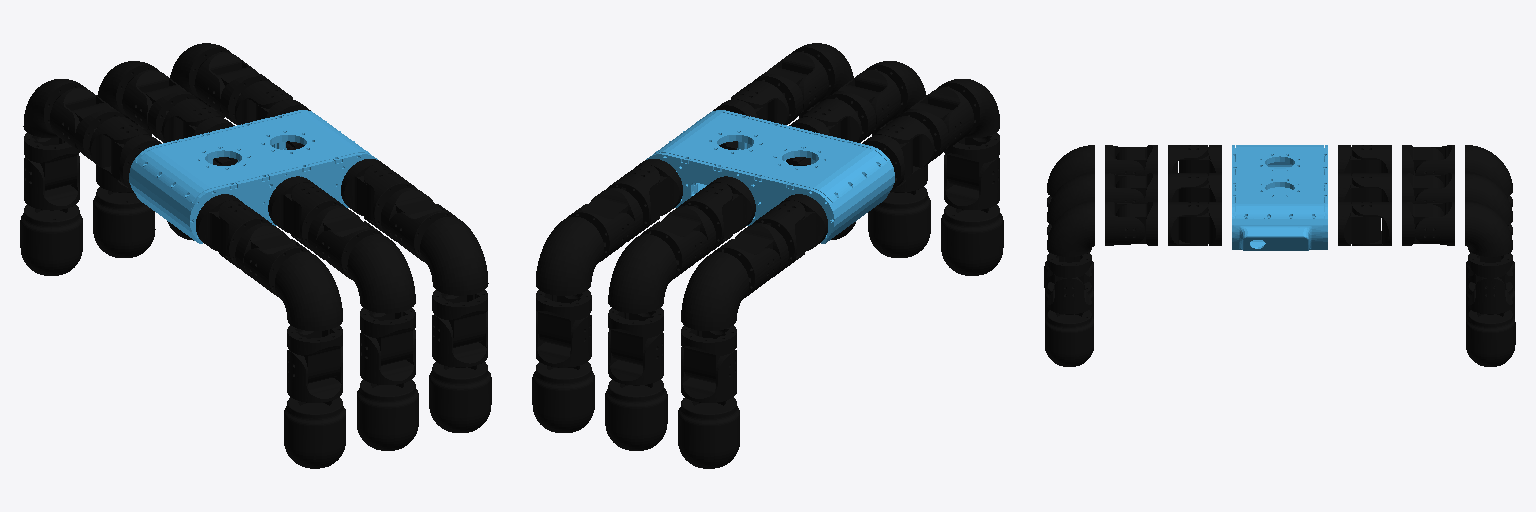
--- What the picture shows (computed from the rendered views, not written in the file) ---
The picture shows the robot from 3 angles, left to right: view 1: azimuth 30°, elevation 25°; view 2: azimuth 150°, elevation 25°; view 3: azimuth 270°, elevation 25°; orthographic projection.
Model modular_robot_compiled with 50 links and 49 joints (18 revolute, 31 fixed), rooted at base_link, posed all joints at 0.
Links seen in each view (by area): view 1: eigenbody_M0_S0, static_elbow_M20_S20, static_elbow_M19_S19, static_elbow_M21_S21, foot_input_M28_S28, foot_input_M27_S27, foot_input_M25_S25, foot_input_M26_S26, foot_input_M29_S29, bendy_input_M13_S13, bendy_input_M15_S15, bendy_input_M14_S14 (+28 smaller); view 2: eigenbody_M0_S0, static_elbow_M23_S23, static_elbow_M22_S22, static_elbow_M24_S24, foot_input_M26_S26, foot_input_M29_S29, foot_input_M30_S30, foot_input_M28_S28, foot_input_M25_S25, bendy_input_M18_S18, bendy_input_M16_S16, bendy_input_M17_S17 (+28 smaller); view 3: eigenbody_M0_S0, foot_input_M30_S30, foot_input_M27_S27, static_elbow_M24_S24, static_elbow_M21_S21, bendy_input_M6_S6, bendy_input_M3_S3, static_elbow_M20_S20, static_elbow_M23_S23, static_elbow_M19_S19, static_elbow_M22_S22, bendy_output_M18_S18 (+25 smaller).
Boxes of the visible links, <box> form: eigenbody_M0_S0: <box>129,110,377,243</box>; static_elbow_M20_S20: <box>347,234,415,313</box>; static_elbow_M19_S19: <box>275,252,342,330</box>; static_elbow_M21_S21: <box>420,217,488,295</box>; foot_input_M28_S28: <box>20,205,82,275</box>; foot_input_M27_S27: <box>429,362,491,432</box>; foot_input_M25_S25: <box>357,379,418,450</box>; foot_input_M26_S26: <box>284,397,345,468</box>; foot_input_M29_S29: <box>93,187,155,257</box>; bendy_input_M13_S13: <box>287,325,342,383</box>; bendy_input_M15_S15: <box>432,290,487,347</box>; bendy_input_M14_S14: <box>360,307,415,365</box>; eigenbody_M0_S0: <box>646,110,894,243</box>; static_elbow_M23_S23: <box>608,234,676,313</box>; static_elbow_M22_S22: <box>681,252,748,330</box>; static_elbow_M24_S24: <box>536,217,603,295</box>; foot_input_M26_S26: <box>941,204,1003,275</box>; foot_input_M29_S29: <box>605,380,667,450</box>; foot_input_M30_S30: <box>532,362,594,432</box>; foot_input_M28_S28: <box>678,397,739,468</box>; foot_input_M25_S25: <box>868,187,930,257</box>; bendy_input_M18_S18: <box>536,290,591,347</box>; bendy_input_M16_S16: <box>681,325,736,383</box>; bendy_input_M17_S17: <box>608,308,663,365</box>; eigenbody_M0_S0: <box>1232,145,1327,250</box>; foot_input_M30_S30: <box>1466,310,1515,366</box>; foot_input_M27_S27: <box>1045,310,1093,366</box>; static_elbow_M24_S24: <box>1465,202,1512,256</box>; static_elbow_M21_S21: <box>1047,202,1094,256</box>; bendy_input_M6_S6: <box>1338,202,1380,245</box>; bendy_input_M3_S3: <box>1179,202,1221,245</box>; static_elbow_M20_S20: <box>1047,173,1094,225</box>; static_elbow_M23_S23: <box>1465,173,1512,224</box>; static_elbow_M19_S19: <box>1047,145,1094,196</box>; static_elbow_M22_S22: <box>1465,145,1512,196</box>; bendy_output_M18_S18: <box>1468,262,1512,314</box>.
Bounding box of the posed robot: 0.2556 × 0.6321 × 0.2325 m (x, y, z).
Meshes: 5 distinct files referenced, 49 mesh visuals loaded (5 binary STL).

robot.urdf — modular_robot_compiled:
<?xml version="1.0" ?>
<!-- =================================================================================== -->
<!-- |    This document was autogenerated by xacro from [local-path]/catkin_ws/src/eigenbot/urdf/autoXACRO.xacro | -->
<!-- |    EDITING THIS FILE BY HAND IS NOT RECOMMENDED                                 | -->
<!-- =================================================================================== -->
<robot name="modular_robot_compiled" xmlns:xacro="http://www.ros.org/wiki/xacro">

  <link name="base_link" />



  <link name="eigenbody_M0_S0">
    <inertial>
      <mass value="2.38"/>
      <origin rpy="0 0 0" xyz="-0.045 0 -0.063"/>
      <inertia ixx=".005031284" ixy="0.000000338" ixz="0.000086805" iyy="0.003968526" iyz="0.000039596" izz="0.001646162"/>
    </inertial>
    <visual>
      <geometry>
        <mesh filename="../meshes/Eigenbody.STL" scale="1 1 1"/>
      </geometry>
    </visual>
    <collision>
      <geometry>
        <mesh filename="../meshes/Eigenbody.STL" scale="1 1 1"/>
      </geometry>
    </collision>
    <material name="black">
      <color rgba="0.1 0.1 0.1 1"/>
    </material>
  </link>
  <link name="bendy_input_M1_S1">
    <inertial>
      <origin rpy="0 0 0" xyz="-0.023 0 0"/>
      <mass value="0.13536"/>
      <inertia ixx="0.000047004" ixy="-0.000000049" ixz="0.000000017" iyy="0.000068413" iyz="0.000000009" izz="0.000070686"/>
    </inertial>
    <visual>
      <geometry>
        <mesh filename="../meshes/Bendy In.STL" scale="1 1 1"/>
      </geometry>
      <material name="black">
        <color rgba="0.1 0.1 0.1 1"/>
      </material>
    </visual>
    <collision>
      <geometry>
        <mesh filename="../meshes/Bendy In.STL" scale="1 1 1"/>
      </geometry>
    </collision>
    <material name="black">
      <color rgba="0.1 0.1 0.1 1"/>
    </material>
  </link>
  <link name="bendy_output_M1_S1">
    <inertial>
      <origin rpy="0 0 0" xyz="-0.029 0 0"/>
      <mass value=".13522"/>
      <inertia ixx="0.000021977" ixy="0.000000082" ixz="-0.000000063" iyy="0.000017473" iyz="0.000000067" izz="0.000021078"/>
    </inertial>
    <visual>
      <geometry>
        <mesh filename="../meshes/Bendy Out.STL" scale="1 1 1"/>
      </geometry>
      <material name="black">
        <color rgba="0.1 0.1 0.1 1"/>
      </material>
      <origin rpy="0 0 0" xyz="0 0 0 "/>
    </visual>
    <collision>
      <geometry>
        <mesh filename="../meshes/Bendy Out.STL" scale="1 1 1"/>
      </geometry>
      <origin rpy="0 0 0" xyz="0 0 0"/>
    </collision>
    <material name="black">
      <color rgba="0.1 0.1 0.1 1"/>
    </material>
  </link>
  <joint name="bendy_joint_M1_S1" type="revolute">
    <parent link="bendy_input_M1_S1"/>
    <child link="bendy_output_M1_S1"/>
    <origin rpy="0 0 0" xyz="-0.049 0 0"/>
    <axis xyz="0 1 0"/>
    <limit effort="8" lower="-1.57079632679" upper="1.57079632679" velocity="1"/>
  </joint>
  <link name="bendy_input_M2_S2">
    <inertial>
      <origin rpy="0 0 0" xyz="-0.023 0 0"/>
      <mass value="0.13536"/>
      <inertia ixx="0.000047004" ixy="-0.000000049" ixz="0.000000017" iyy="0.000068413" iyz="0.000000009" izz="0.000070686"/>
    </inertial>
    <visual>
      <geometry>
        <mesh filename="../meshes/Bendy In.STL" scale="1 1 1"/>
      </geometry>
      <material name="black">
        <color rgba="0.1 0.1 0.1 1"/>
      </material>
    </visual>
    <collision>
      <geometry>
        <mesh filename="../meshes/Bendy In.STL" scale="1 1 1"/>
      </geometry>
    </collision>
    <material name="black">
      <color rgba="0.1 0.1 0.1 1"/>
    </material>
  </link>
  <link name="bendy_output_M2_S2">
    <inertial>
      <origin rpy="0 0 0" xyz="-0.029 0 0"/>
      <mass value=".13522"/>
      <inertia ixx="0.000021977" ixy="0.000000082" ixz="-0.000000063" iyy="0.000017473" iyz="0.000000067" izz="0.000021078"/>
    </inertial>
    <visual>
      <geometry>
        <mesh filename="../meshes/Bendy Out.STL" scale="1 1 1"/>
      </geometry>
      <material name="black">
        <color rgba="0.1 0.1 0.1 1"/>
      </material>
      <origin rpy="0 0 0" xyz="0 0 0 "/>
    </visual>
    <collision>
      <geometry>
        <mesh filename="../meshes/Bendy Out.STL" scale="1 1 1"/>
      </geometry>
      <origin rpy="0 0 0" xyz="0 0 0"/>
    </collision>
    <material name="black">
      <color rgba="0.1 0.1 0.1 1"/>
    </material>
  </link>
  <joint name="bendy_joint_M2_S2" type="revolute">
    <parent link="bendy_input_M2_S2"/>
    <child link="bendy_output_M2_S2"/>
    <origin rpy="0 0 0" xyz="-0.049 0 0"/>
    <axis xyz="0 1 0"/>
    <limit effort="8" lower="-1.57079632679" upper="1.57079632679" velocity="1"/>
  </joint>
  <link name="bendy_input_M3_S3">
    <inertial>
      <origin rpy="0 0 0" xyz="-0.023 0 0"/>
      <mass value="0.13536"/>
      <inertia ixx="0.000047004" ixy="-0.000000049" ixz="0.000000017" iyy="0.000068413" iyz="0.000000009" izz="0.000070686"/>
    </inertial>
    <visual>
      <geometry>
        <mesh filename="../meshes/Bendy In.STL" scale="1 1 1"/>
      </geometry>
      <material name="black">
        <color rgba="0.1 0.1 0.1 1"/>
      </material>
    </visual>
    <collision>
      <geometry>
        <mesh filename="../meshes/Bendy In.STL" scale="1 1 1"/>
      </geometry>
    </collision>
    <material name="black">
      <color rgba="0.1 0.1 0.1 1"/>
    </material>
  </link>
  <link name="bendy_output_M3_S3">
    <inertial>
      <origin rpy="0 0 0" xyz="-0.029 0 0"/>
      <mass value=".13522"/>
      <inertia ixx="0.000021977" ixy="0.000000082" ixz="-0.000000063" iyy="0.000017473" iyz="0.000000067" izz="0.000021078"/>
    </inertial>
    <visual>
      <geometry>
        <mesh filename="../meshes/Bendy Out.STL" scale="1 1 1"/>
      </geometry>
      <material name="black">
        <color rgba="0.1 0.1 0.1 1"/>
      </material>
      <origin rpy="0 0 0" xyz="0 0 0 "/>
    </visual>
    <collision>
      <geometry>
        <mesh filename="../meshes/Bendy Out.STL" scale="1 1 1"/>
      </geometry>
      <origin rpy="0 0 0" xyz="0 0 0"/>
    </collision>
    <material name="black">
      <color rgba="0.1 0.1 0.1 1"/>
    </material>
  </link>
  <joint name="bendy_joint_M3_S3" type="revolute">
    <parent link="bendy_input_M3_S3"/>
    <child link="bendy_output_M3_S3"/>
    <origin rpy="0 0 0" xyz="-0.049 0 0"/>
    <axis xyz="0 1 0"/>
    <limit effort="8" lower="-1.57079632679" upper="1.57079632679" velocity="1"/>
  </joint>
  <link name="bendy_input_M4_S4">
    <inertial>
      <origin rpy="0 0 0" xyz="-0.023 0 0"/>
      <mass value="0.13536"/>
      <inertia ixx="0.000047004" ixy="-0.000000049" ixz="0.000000017" iyy="0.000068413" iyz="0.000000009" izz="0.000070686"/>
    </inertial>
    <visual>
      <geometry>
        <mesh filename="../meshes/Bendy In.STL" scale="1 1 1"/>
      </geometry>
      <material name="black">
        <color rgba="0.1 0.1 0.1 1"/>
      </material>
    </visual>
    <collision>
      <geometry>
        <mesh filename="../meshes/Bendy In.STL" scale="1 1 1"/>
      </geometry>
    </collision>
    <material name="black">
      <color rgba="0.1 0.1 0.1 1"/>
    </material>
  </link>
  <link name="bendy_output_M4_S4">
    <inertial>
      <origin rpy="0 0 0" xyz="-0.029 0 0"/>
      <mass value=".13522"/>
      <inertia ixx="0.000021977" ixy="0.000000082" ixz="-0.000000063" iyy="0.000017473" iyz="0.000000067" izz="0.000021078"/>
    </inertial>
    <visual>
      <geometry>
        <mesh filename="../meshes/Bendy Out.STL" scale="1 1 1"/>
      </geometry>
      <material name="black">
        <color rgba="0.1 0.1 0.1 1"/>
      </material>
      <origin rpy="0 0 0" xyz="0 0 0 "/>
    </visual>
    <collision>
      <geometry>
        <mesh filename="../meshes/Bendy Out.STL" scale="1 1 1"/>
      </geometry>
      <origin rpy="0 0 0" xyz="0 0 0"/>
    </collision>
    <material name="black">
      <color rgba="0.1 0.1 0.1 1"/>
    </material>
  </link>
  <joint name="bendy_joint_M4_S4" type="revolute">
    <parent link="bendy_input_M4_S4"/>
    <child link="bendy_output_M4_S4"/>
    <origin rpy="0 0 0" xyz="-0.049 0 0"/>
    <axis xyz="0 1 0"/>
    <limit effort="8" lower="-1.57079632679" upper="1.57079632679" velocity="1"/>
  </joint>
  <link name="bendy_input_M5_S5">
    <inertial>
      <origin rpy="0 0 0" xyz="-0.023 0 0"/>
      <mass value="0.13536"/>
      <inertia ixx="0.000047004" ixy="-0.000000049" ixz="0.000000017" iyy="0.000068413" iyz="0.000000009" izz="0.000070686"/>
    </inertial>
    <visual>
      <geometry>
        <mesh filename="../meshes/Bendy In.STL" scale="1 1 1"/>
      </geometry>
      <material name="black">
        <color rgba="0.1 0.1 0.1 1"/>
      </material>
    </visual>
    <collision>
      <geometry>
        <mesh filename="../meshes/Bendy In.STL" scale="1 1 1"/>
      </geometry>
    </collision>
    <material name="black">
      <color rgba="0.1 0.1 0.1 1"/>
    </material>
  </link>
  <link name="bendy_output_M5_S5">
    <inertial>
      <origin rpy="0 0 0" xyz="-0.029 0 0"/>
      <mass value=".13522"/>
      <inertia ixx="0.000021977" ixy="0.000000082" ixz="-0.000000063" iyy="0.000017473" iyz="0.000000067" izz="0.000021078"/>
    </inertial>
    <visual>
      <geometry>
        <mesh filename="../meshes/Bendy Out.STL" scale="1 1 1"/>
      </geometry>
      <material name="black">
        <color rgba="0.1 0.1 0.1 1"/>
      </material>
      <origin rpy="0 0 0" xyz="0 0 0 "/>
    </visual>
    <collision>
      <geometry>
        <mesh filename="../meshes/Bendy Out.STL" scale="1 1 1"/>
      </geometry>
      <origin rpy="0 0 0" xyz="0 0 0"/>
    </collision>
    <material name="black">
      <color rgba="0.1 0.1 0.1 1"/>
    </material>
  </link>
  <joint name="bendy_joint_M5_S5" type="revolute">
    <parent link="bendy_input_M5_S5"/>
    <child link="bendy_output_M5_S5"/>
    <origin rpy="0 0 0" xyz="-0.049 0 0"/>
    <axis xyz="0 1 0"/>
    <limit effort="8" lower="-1.57079632679" upper="1.57079632679" velocity="1"/>
  </joint>
  <link name="bendy_input_M6_S6">
    <inertial>
      <origin rpy="0 0 0" xyz="-0.023 0 0"/>
      <mass value="0.13536"/>
      <inertia ixx="0.000047004" ixy="-0.000000049" ixz="0.000000017" iyy="0.000068413" iyz="0.000000009" izz="0.000070686"/>
    </inertial>
    <visual>
      <geometry>
        <mesh filename="../meshes/Bendy In.STL" scale="1 1 1"/>
      </geometry>
      <material name="black">
        <color rgba="0.1 0.1 0.1 1"/>
      </material>
    </visual>
    <collision>
      <geometry>
        <mesh filename="../meshes/Bendy In.STL" scale="1 1 1"/>
      </geometry>
    </collision>
    <material name="black">
      <color rgba="0.1 0.1 0.1 1"/>
    </material>
  </link>
  <link name="bendy_output_M6_S6">
    <inertial>
      <origin rpy="0 0 0" xyz="-0.029 0 0"/>
      <mass value=".13522"/>
      <inertia ixx="0.000021977" ixy="0.000000082" ixz="-0.000000063" iyy="0.000017473" iyz="0.000000067" izz="0.000021078"/>
    </inertial>
    <visual>
      <geometry>
        <mesh filename="../meshes/Bendy Out.STL" scale="1 1 1"/>
      </geometry>
      <material name="black">
        <color rgba="0.1 0.1 0.1 1"/>
      </material>
      <origin rpy="0 0 0" xyz="0 0 0 "/>
    </visual>
    <collision>
      <geometry>
        <mesh filename="../meshes/Bendy Out.STL" scale="1 1 1"/>
      </geometry>
      <origin rpy="0 0 0" xyz="0 0 0"/>
    </collision>
    <material name="black">
      <color rgba="0.1 0.1 0.1 1"/>
    </material>
  </link>
  <joint name="bendy_joint_M6_S6" type="revolute">
    <parent link="bendy_input_M6_S6"/>
    <child link="bendy_output_M6_S6"/>
    <origin rpy="0 0 0" xyz="-0.049 0 0"/>
    <axis xyz="0 1 0"/>
    <limit effort="8" lower="-1.57079632679" upper="1.57079632679" velocity="1"/>
  </joint>
  <link name="bendy_input_M7_S7">
    <inertial>
      <origin rpy="0 0 0" xyz="-0.023 0 0"/>
      <mass value="0.13536"/>
      <inertia ixx="0.000047004" ixy="-0.000000049" ixz="0.000000017" iyy="0.000068413" iyz="0.000000009" izz="0.000070686"/>
    </inertial>
    <visual>
      <geometry>
        <mesh filename="../meshes/Bendy In.STL" scale="1 1 1"/>
      </geometry>
      <material name="black">
        <color rgba="0.1 0.1 0.1 1"/>
      </material>
    </visual>
    <collision>
      <geometry>
        <mesh filename="../meshes/Bendy In.STL" scale="1 1 1"/>
      </geometry>
    </collision>
    <material name="black">
      <color rgba="0.1 0.1 0.1 1"/>
    </material>
  </link>
  <link name="bendy_output_M7_S7">
    <inertial>
      <origin rpy="0 0 0" xyz="-0.029 0 0"/>
      <mass value=".13522"/>
      <inertia ixx="0.000021977" ixy="0.000000082" ixz="-0.000000063" iyy="0.000017473" iyz="0.000000067" izz="0.000021078"/>
    </inertial>
    <visual>
      <geometry>
        <mesh filename="../meshes/Bendy Out.STL" scale="1 1 1"/>
      </geometry>
      <material name="black">
        <color rgba="0.1 0.1 0.1 1"/>
      </material>
      <origin rpy="0 0 0" xyz="0 0 0 "/>
    </visual>
    <collision>
      <geometry>
        <mesh filename="../meshes/Bendy Out.STL" scale="1 1 1"/>
      </geometry>
      <origin rpy="0 0 0" xyz="0 0 0"/>
    </collision>
    <material name="black">
      <color rgba="0.1 0.1 0.1 1"/>
    </material>
  </link>
  <joint name="bendy_joint_M7_S7" type="revolute">
    <parent link="bendy_input_M7_S7"/>
    <child link="bendy_output_M7_S7"/>
    <origin rpy="0 0 0" xyz="-0.049 0 0"/>
    <axis xyz="0 1 0"/>
    <limit effort="8" lower="0" upper="1.57079632679" velocity="1"/>
  </joint>
  <link name="bendy_input_M8_S8">
    <inertial>
      <origin rpy="0 0 0" xyz="-0.023 0 0"/>
      <mass value="0.13536"/>
      <inertia ixx="0.000047004" ixy="-0.000000049" ixz="0.000000017" iyy="0.000068413" iyz="0.000000009" izz="0.000070686"/>
    </inertial>
    <visual>
      <geometry>
        <mesh filename="../meshes/Bendy In.STL" scale="1 1 1"/>
      </geometry>
      <material name="black">
        <color rgba="0.1 0.1 0.1 1"/>
      </material>
    </visual>
    <collision>
      <geometry>
        <mesh filename="../meshes/Bendy In.STL" scale="1 1 1"/>
      </geometry>
    </collision>
    <material name="black">
      <color rgba="0.1 0.1 0.1 1"/>
    </material>
  </link>
  <link name="bendy_output_M8_S8">
    <inertial>
      <origin rpy="0 0 0" xyz="-0.029 0 0"/>
      <mass value=".13522"/>
      <inertia ixx="0.000021977" ixy="0.000000082" ixz="-0.000000063" iyy="0.000017473" iyz="0.000000067" izz="0.000021078"/>
    </inertial>
    <visual>
      <geometry>
        <mesh filename="../meshes/Bendy Out.STL" scale="1 1 1"/>
      </geometry>
      <material name="black">
        <color rgba="0.1 0.1 0.1 1"/>
      </material>
      <origin rpy="0 0 0" xyz="0 0 0 "/>
    </visual>
    <collision>
      <geometry>
        <mesh filename="../meshes/Bendy Out.STL" scale="1 1 1"/>
      </geometry>
      <origin rpy="0 0 0" xyz="0 0 0"/>
    </collision>
    <material name="black">
      <color rgba="0.1 0.1 0.1 1"/>
    </material>
  </link>
  <joint name="bendy_joint_M8_S8" type="revolute">
    <parent link="bendy_input_M8_S8"/>
    <child link="bendy_output_M8_S8"/>
    <origin rpy="0 0 0" xyz="-0.049 0 0"/>
    <axis xyz="0 1 0"/>
    <limit effort="8" lower="0" upper="1.57079632679" velocity="1"/>
  </joint>
  <link name="bendy_input_M9_S9">
    <inertial>
      <origin rpy="0 0 0" xyz="-0.023 0 0"/>
      <mass value="0.13536"/>
      <inertia ixx="0.000047004" ixy="-0.000000049" ixz="0.000000017" iyy="0.000068413" iyz="0.000000009" izz="0.000070686"/>
    </inertial>
    <visual>
      <geometry>
        <mesh filename="../meshes/Bendy In.STL" scale="1 1 1"/>
      </geometry>
      <material name="black">
        <color rgba="0.1 0.1 0.1 1"/>
      </material>
    </visual>
    <collision>
      <geometry>
        <mesh filename="../meshes/Bendy In.STL" scale="1 1 1"/>
      </geometry>
    </collision>
    <material name="black">
      <color rgba="0.1 0.1 0.1 1"/>
    </material>
  </link>
  <link name="bendy_output_M9_S9">
    <inertial>
      <origin rpy="0 0 0" xyz="-0.029 0 0"/>
      <mass value=".13522"/>
      <inertia ixx="0.000021977" ixy="0.000000082" ixz="-0.000000063" iyy="0.000017473" iyz="0.000000067" izz="0.000021078"/>
    </inertial>
    <visual>
      <geometry>
        <mesh filename="../meshes/Bendy Out.STL" scale="1 1 1"/>
      </geometry>
      <material name="black">
        <color rgba="0.1 0.1 0.1 1"/>
      </material>
      <origin rpy="0 0 0" xyz="0 0 0 "/>
    </visual>
    <collision>
      <geometry>
        <mesh filename="../meshes/Bendy Out.STL" scale="1 1 1"/>
      </geometry>
      <origin rpy="0 0 0" xyz="0 0 0"/>
    </collision>
    <material name="black">
      <color rgba="0.1 0.1 0.1 1"/>
    </material>
  </link>
  <joint name="bendy_joint_M9_S9" type="revolute">
    <parent link="bendy_input_M9_S9"/>
    <child link="bendy_output_M9_S9"/>
    <origin rpy="0 0 0" xyz="-0.049 0 0"/>
    <axis xyz="0 1 0"/>
    <limit effort="8" lower="0" upper="1.57079632679" velocity="1"/>
  </joint>
  <link name="bendy_input_M10_S10">
    <inertial>
      <origin rpy="0 0 0" xyz="-0.023 0 0"/>
      <mass value="0.13536"/>
      <inertia ixx="0.000047004" ixy="-0.000000049" ixz="0.000000017" iyy="0.000068413" iyz="0.000000009" izz="0.000070686"/>
    </inertial>
    <visual>
      <geometry>
        <mesh filename="../meshes/Bendy In.STL" scale="1 1 1"/>
      </geometry>
      <material name="black">
        <color rgba="0.1 0.1 0.1 1"/>
      </material>
    </visual>
    <collision>
      <geometry>
        <mesh filename="../meshes/Bendy In.STL" scale="1 1 1"/>
      </geometry>
    </collision>
    <material name="black">
      <color rgba="0.1 0.1 0.1 1"/>
    </material>
  </link>
  <link name="bendy_output_M10_S10">
    <inertial>
      <origin rpy="0 0 0" xyz="-0.029 0 0"/>
      <mass value=".13522"/>
      <inertia ixx="0.000021977" ixy="0.000000082" ixz="-0.000000063" iyy="0.000017473" iyz="0.000000067" izz="0.000021078"/>
    </inertial>
    <visual>
      <geometry>
        <mesh filename="../meshes/Bendy Out.STL" scale="1 1 1"/>
      </geometry>
      <material name="black">
        <color rgba="0.1 0.1 0.1 1"/>
      </material>
      <origin rpy="0 0 0" xyz="0 0 0 "/>
    </visual>
    <collision>
      <geometry>
        <mesh filename="../meshes/Bendy Out.STL" scale="1 1 1"/>
      </geometry>
      <origin rpy="0 0 0" xyz="0 0 0"/>
    </collision>
    <material name="black">
      <color rgba="0.1 0.1 0.1 1"/>
    </material>
  </link>
  <joint name="bendy_joint_M10_S10" type="revolute">
    <parent link="bendy_input_M10_S10"/>
    <child link="bendy_output_M10_S10"/>
    <origin rpy="0 0 0" xyz="-0.049 0 0"/>
    <axis xyz="0 1 0"/>
    <limit effort="8" lower="0" upper="1.57079632679" velocity="1"/>
  </joint>
  <link name="bendy_input_M11_S11">
    <inertial>
      <origin rpy="0 0 0" xyz="-0.023 0 0"/>
      <mass value="0.13536"/>
      <inertia ixx="0.000047004" ixy="-0.000000049" ixz="0.000000017" iyy="0.000068413" iyz="0.000000009" izz="0.000070686"/>
    </inertial>
    <visual>
      <geometry>
        <mesh filename="../meshes/Bendy In.STL" scale="1 1 1"/>
      </geometry>
      <material name="black">
        <color rgba="0.1 0.1 0.1 1"/>
      </material>
    </visual>
    <collision>
      <geometry>
        <mesh filename="../meshes/Bendy In.STL" scale="1 1 1"/>
      </geometry>
    </collision>
    <material name="black">
      <color rgba="0.1 0.1 0.1 1"/>
    </material>
  </link>
  <link name="bendy_output_M11_S11">
    <inertial>
      <origin rpy="0 0 0" xyz="-0.029 0 0"/>
      <mass value=".13522"/>
      <inertia ixx="0.000021977" ixy="0.000000082" ixz="-0.000000063" iyy="0.000017473" iyz="0.000000067" izz="0.000021078"/>
    </inertial>
    <visual>
      <geometry>
        <mesh filename="../meshes/Bendy Out.STL" scale="1 1 1"/>
      </geometry>
      <material name="black">
        <color rgba="0.1 0.1 0.1 1"/>
      </material>
      <origin rpy="0 0 0" xyz="0 0 0 "/>
    </visual>
    <collision>
      <geometry>
        <mesh filename="../meshes/Bendy Out.STL" scale="1 1 1"/>
      </geometry>
      <origin rpy="0 0 0" xyz="0 0 0"/>
    </collision>
    <material name="black">
      <color rgba="0.1 0.1 0.1 1"/>
    </material>
  </link>
  <joint name="bendy_joint_M11_S11" type="revolute">
    <parent link="bendy_input_M11_S11"/>
    <child link="bendy_output_M11_S11"/>
    <origin rpy="0 0 0" xyz="-0.049 0 0"/>
    <axis xyz="0 1 0"/>
    <limit effort="8" lower="0" upper="1.57079632679" velocity="1"/>
  </joint>
  <link name="bendy_input_M12_S12">
    <inertial>
      <origin rpy="0 0 0" xyz="-0.023 0 0"/>
      <mass value="0.13536"/>
      <inertia ixx="0.000047004" ixy="-0.000000049" ixz="0.000000017" iyy="0.000068413" iyz="0.000000009" izz="0.000070686"/>
    </inertial>
    <visual>
      <geometry>
        <mesh filename="../meshes/Bendy In.STL" scale="1 1 1"/>
      </geometry>
      <material name="black">
        <color rgba="0.1 0.1 0.1 1"/>
      </material>
    </visual>
    <collision>
      <geometry>
        <mesh filename="../meshes/Bendy In.STL" scale="1 1 1"/>
      </geometry>
    </collision>
    <material name="black">
      <color rgba="0.1 0.1 0.1 1"/>
    </material>
  </link>
  <link name="bendy_output_M12_S12">
    <inertial>
      <origin rpy="0 0 0" xyz="-0.029 0 0"/>
      <mass value=".13522"/>
      <inertia ixx="0.000021977" ixy="0.000000082" ixz="-0.000000063" iyy="0.000017473" iyz="0.000000067" izz="0.000021078"/>
    </inertial>
    <visual>
      <geometry>
        <mesh filename="../meshes/Bendy Out.STL" scale="1 1 1"/>
      </geometry>
      <material name="black">
        <color rgba="0.1 0.1 0.1 1"/>
      </material>
      <origin rpy="0 0 0" xyz="0 0 0 "/>
    </visual>
    <collision>
      <geometry>
        <mesh filename="../meshes/Bendy Out.STL" scale="1 1 1"/>
      </geometry>
      <origin rpy="0 0 0" xyz="0 0 0"/>
    </collision>
    <material name="black">
      <color rgba="0.1 0.1 0.1 1"/>
    </material>
  </link>
  <joint name="bendy_joint_M12_S12" type="revolute">
    <parent link="bendy_input_M12_S12"/>
    <child link="bendy_output_M12_S12"/>
    <origin rpy="0 0 0" xyz="-0.049 0 0"/>
    <axis xyz="0 1 0"/>
    <limit effort="8" lower="0" upper="1.57079632679" velocity="1"/>
  </joint>
  <link name="bendy_input_M13_S13">
    <inertial>
      <origin rpy="0 0 0" xyz="-0.023 0 0"/>
      <mass value="0.13536"/>
      <inertia ixx="0.000047004" ixy="-0.000000049" ixz="0.000000017" iyy="0.000068413" iyz="0.000000009" izz="0.000070686"/>
    </inertial>
    <visual>
      <geometry>
        <mesh filename="../meshes/Bendy In.STL" scale="1 1 1"/>
      </geometry>
      <material name="black">
        <color rgba="0.1 0.1 0.1 1"/>
      </material>
    </visual>
    <collision>
      <geometry>
        <mesh filename="../meshes/Bendy In.STL" scale="1 1 1"/>
      </geometry>
    </collision>
    <material name="black">
      <color rgba="0.1 0.1 0.1 1"/>
    </material>
  </link>
  <link name="bendy_output_M13_S13">
    <inertial>
      <origin rpy="0 0 0" xyz="-0.029 0 0"/>
      <mass value=".13522"/>
      <inertia ixx="0.000021977" ixy="0.000000082" ixz="-0.000000063" iyy="0.000017473" iyz="0.000000067" izz="0.000021078"/>
    </inertial>
    <visual>
      <geometry>
        <mesh filename="../meshes/Bendy Out.STL" scale="1 1 1"/>
      </geometry>
      <material name="black">
        <color rgba="0.1 0.1 0.1 1"/>
      </material>
      <origin rpy="0 0 0" xyz="0 0 0 "/>
    </visual>
    <collision>
      <geometry>
        <mesh filename="../meshes/Bendy Out.STL" scale="1 1 1"/>
      </geometry>
      <origin rpy="0 0 0" xyz="0 0 0"/>
    </collision>
    <material name="black">
      <color rgba="0.1 0.1 0.1 1"/>
    </material>
  </link>
  <joint name="bendy_joint_M13_S13" type="revolute">
    <parent link="bendy_input_M13_S13"/>
    <child link="bendy_output_M13_S13"/>
    <origin rpy="0 0 0" xyz="-0.049 0 0"/>
    <axis xyz="0 1 0"/>
    <limit effort="8" lower="-1.57079632679" upper="1.57079632679" velocity="1"/>
  </joint>
  <link name="bendy_input_M14_S14">
    <inertial>
      <origin rpy="0 0 0" xyz="-0.023 0 0"/>
      <mass value="0.13536"/>
      <inertia ixx="0.000047004" ixy="-0.000000049" ixz="0.000000017" iyy="0.000068413" iyz="0.000000009" izz="0.000070686"/>
    </inertial>
    <visual>
      <geometry>
        <mesh filename="../meshes/Bendy In.STL" scale="1 1 1"/>
      </geometry>
      <material name="black">
        <color rgba="0.1 0.1 0.1 1"/>
      </material>
    </visual>
    <collision>
      <geometry>
        <mesh filename="../meshes/Bendy In.STL" scale="1 1 1"/>
      </geometry>
    </collision>
    <material name="black">
      <color rgba="0.1 0.1 0.1 1"/>
    </material>
  </link>
  <link name="bendy_output_M14_S14">
    <inertial>
      <origin rpy="0 0 0" xyz="-0.029 0 0"/>
      <mass value=".13522"/>
      <inertia ixx="0.000021977" ixy="0.000000082" ixz="-0.000000063" iyy="0.000017473" iyz="0.000000067" izz="0.000021078"/>
    </inertial>
    <visual>
      <geometry>
        <mesh filename="../meshes/Bendy Out.STL" scale="1 1 1"/>
      </geometry>
      <material name="black">
        <color rgba="0.1 0.1 0.1 1"/>
      </material>
      <origin rpy="0 0 0" xyz="0 0 0 "/>
    </visual>
    <collision>
      <geometry>
        <mesh filename="../meshes/Bendy Out.STL" scale="1 1 1"/>
      </geometry>
      <origin rpy="0 0 0" xyz="0 0 0"/>
    </collision>
    <material name="black">
      <color rgba="0.1 0.1 0.1 1"/>
    </material>
  </link>
  <joint name="bendy_joint_M14_S14" type="revolute">
    <parent link="bendy_input_M14_S14"/>
    <child link="bendy_output_M14_S14"/>
    <origin rpy="0 0 0" xyz="-0.049 0 0"/>
    <axis xyz="0 1 0"/>
    <limit effort="8" lower="-1.57079632679" upper="1.57079632679" velocity="1"/>
  </joint>
  <link name="bendy_input_M15_S15">
    <inertial>
      <origin rpy="0 0 0" xyz="-0.023 0 0"/>
      <mass value="0.13536"/>
      <inertia ixx="0.000047004" ixy="-0.000000049" ixz="0.000000017" iyy="0.000068413" iyz="0.000000009" izz="0.000070686"/>
    </inertial>
    <visual>
      <geometry>
        <mesh filename="../meshes/Bendy In.STL" scale="1 1 1"/>
      </geometry>
      <material name="black">
        <color rgba="0.1 0.1 0.1 1"/>
      </material>
    </visual>
    <collision>
      <geometry>
        <mesh filename="../meshes/Bendy In.STL" scale="1 1 1"/>
      </geometry>
    </collision>
    <material name="black">
      <color rgba="0.1 0.1 0.1 1"/>
    </material>
  </link>
  <link name="bendy_output_M15_S15">
    <inertial>
      <origin rpy="0 0 0" xyz="-0.029 0 0"/>
      <mass value=".13522"/>
      <inertia ixx="0.000021977" ixy="0.000000082" ixz="-0.000000063" iyy="0.000017473" iyz="0.000000067" izz="0.000021078"/>
    </inertial>
    <visual>
      <geometry>
        <mesh filename="../meshes/Bendy Out.STL" scale="1 1 1"/>
      </geometry>
      <material name="black">
        <color rgba="0.1 0.1 0.1 1"/>
      </material>
      <origin rpy="0 0 0" xyz="0 0 0 "/>
    </visual>
    <collision>
      <geometry>
        <mesh filename="../meshes/Bendy Out.STL" scale="1 1 1"/>
      </geometry>
      <origin rpy="0 0 0" xyz="0 0 0"/>
    </collision>
    <material name="black">
      <color rgba="0.1 0.1 0.1 1"/>
    </material>
  </link>
  <joint name="bendy_joint_M15_S15" type="revolute">
    <parent link="bendy_input_M15_S15"/>
    <child link="bendy_output_M15_S15"/>
    <origin rpy="0 0 0" xyz="-0.049 0 0"/>
    <axis xyz="0 1 0"/>
    <limit effort="8" lower="-1.57079632679" upper="1.57079632679" velocity="1"/>
  </joint>
  <link name="bendy_input_M16_S16">
    <inertial>
      <origin rpy="0 0 0" xyz="-0.023 0 0"/>
      <mass value="0.13536"/>
      <inertia ixx="0.000047004" ixy="-0.000000049" ixz="0.000000017" iyy="0.000068413" iyz="0.000000009" izz="0.000070686"/>
    </inertial>
    <visual>
      <geometry>
        <mesh filename="../meshes/Bendy In.STL" scale="1 1 1"/>
      </geometry>
      <material name="black">
        <color rgba="0.1 0.1 0.1 1"/>
      </material>
    </visual>
    <collision>
      <geometry>
        <mesh filename="../meshes/Bendy In.STL" scale="1 1 1"/>
      </geometry>
    </collision>
    <material name="black">
      <color rgba="0.1 0.1 0.1 1"/>
    </material>
  </link>
  <link name="bendy_output_M16_S16">
    <inertial>
      <origin rpy="0 0 0" xyz="-0.029 0 0"/>
      <mass value=".13522"/>
      <inertia ixx="0.000021977" ixy="0.000000082" ixz="-0.000000063" iyy="0.000017473" iyz="0.000000067" izz="0.000021078"/>
    </inertial>
    <visual>
      <geometry>
        <mesh filename="../meshes/Bendy Out.STL" scale="1 1 1"/>
      </geometry>
      <material name="black">
        <color rgba="0.1 0.1 0.1 1"/>
      </material>
      <origin rpy="0 0 0" xyz="0 0 0 "/>
    </visual>
    <collision>
      <geometry>
        <mesh filename="../meshes/Bendy Out.STL" scale="1 1 1"/>
      </geometry>
      <origin rpy="0 0 0" xyz="0 0 0"/>
    </collision>
    <material name="black">
      <color rgba="0.1 0.1 0.1 1"/>
    </material>
  </link>
  <joint name="bendy_joint_M16_S16" type="revolute">
    <parent link="bendy_input_M16_S16"/>
    <child link="bendy_output_M16_S16"/>
    <origin rpy="0 0 0" xyz="-0.049 0 0"/>
    <axis xyz="0 1 0"/>
    <limit effort="8" lower="-1.57079632679" upper="1.57079632679" velocity="1"/>
  </joint>
  <link name="bendy_input_M17_S17">
    <inertial>
      <origin rpy="0 0 0" xyz="-0.023 0 0"/>
      <mass value="0.13536"/>
      <inertia ixx="0.000047004" ixy="-0.000000049" ixz="0.000000017" iyy="0.000068413" iyz="0.000000009" izz="0.000070686"/>
    </inertial>
    <visual>
      <geometry>
        <mesh filename="../meshes/Bendy In.STL" scale="1 1 1"/>
      </geometry>
      <material name="black">
        <color rgba="0.1 0.1 0.1 1"/>
      </material>
    </visual>
    <collision>
      <geometry>
        <mesh filename="../meshes/Bendy In.STL" scale="1 1 1"/>
      </geometry>
    </collision>
    <material name="black">
      <color rgba="0.1 0.1 0.1 1"/>
    </material>
  </link>
  <link name="bendy_output_M17_S17">
    <inertial>
      <origin rpy="0 0 0" xyz="-0.029 0 0"/>
      <mass value=".13522"/>
      <inertia ixx="0.000021977" ixy="0.000000082" ixz="-0.000000063" iyy="0.000017473" iyz="0.000000067" izz="0.000021078"/>
    </inertial>
    <visual>
      <geometry>
        <mesh filename="../meshes/Bendy Out.STL" scale="1 1 1"/>
      </geometry>
      <material name="black">
        <color rgba="0.1 0.1 0.1 1"/>
      </material>
      <origin rpy="0 0 0" xyz="0 0 0 "/>
    </visual>
    <collision>
      <geometry>
        <mesh filename="../meshes/Bendy Out.STL" scale="1 1 1"/>
      </geometry>
      <origin rpy="0 0 0" xyz="0 0 0"/>
    </collision>
    <material name="black">
      <color rgba="0.1 0.1 0.1 1"/>
    </material>
  </link>
  <joint name="bendy_joint_M17_S17" type="revolute">
    <parent link="bendy_input_M17_S17"/>
    <child link="bendy_output_M17_S17"/>
    <origin rpy="0 0 0" xyz="-0.049 0 0"/>
    <axis xyz="0 1 0"/>
    <limit effort="8" lower="-1.57079632679" upper="1.57079632679" velocity="1"/>
  </joint>
  <link name="bendy_input_M18_S18">
    <inertial>
      <origin rpy="0 0 0" xyz="-0.023 0 0"/>
      <mass value="0.13536"/>
      <inertia ixx="0.000047004" ixy="-0.000000049" ixz="0.000000017" iyy="0.000068413" iyz="0.000000009" izz="0.000070686"/>
    </inertial>
    <visual>
      <geometry>
        <mesh filename="../meshes/Bendy In.STL" scale="1 1 1"/>
      </geometry>
      <material name="black">
        <color rgba="0.1 0.1 0.1 1"/>
      </material>
    </visual>
    <collision>
      <geometry>
        <mesh filename="../meshes/Bendy In.STL" scale="1 1 1"/>
      </geometry>
    </collision>
    <material name="black">
      <color rgba="0.1 0.1 0.1 1"/>
    </material>
  </link>
  <link name="bendy_output_M18_S18">
    <inertial>
      <origin rpy="0 0 0" xyz="-0.029 0 0"/>
      <mass value=".13522"/>
      <inertia ixx="0.000021977" ixy="0.000000082" ixz="-0.000000063" iyy="0.000017473" iyz="0.000000067" izz="0.000021078"/>
    </inertial>
    <visual>
      <geometry>
        <mesh filename="../meshes/Bendy Out.STL" scale="1 1 1"/>
      </geometry>
      <material name="black">
        <color rgba="0.1 0.1 0.1 1"/>
      </material>
      <origin rpy="0 0 0" xyz="0 0 0 "/>
    </visual>
    <collision>
      <geometry>
        <mesh filename="../meshes/Bendy Out.STL" scale="1 1 1"/>
      </geometry>
      <origin rpy="0 0 0" xyz="0 0 0"/>
    </collision>
    <material name="black">
      <color rgba="0.1 0.1 0.1 1"/>
    </material>
  </link>
  <joint name="bendy_joint_M18_S18" type="revolute">
    <parent link="bendy_input_M18_S18"/>
    <child link="bendy_output_M18_S18"/>
    <origin rpy="0 0 0" xyz="-0.049 0 0"/>
    <axis xyz="0 1 0"/>
    <limit effort="8" lower="-1.57079632679" upper="1.57079632679" velocity="1"/>
  </joint>
  <link name="static_elbow_M19_S19">
    <inertial>
      <origin rpy="0 0 0" xyz="-0.03148 0.00004 -0.01437"/>
      <mass value="0.06766"/>
      <inertia ixx="0.000052397" ixy="-0.0000001126" ixz="0.000015681" iyy="0.000065586" iyz="-0.000000082" izz="0.000053626"/>
    </inertial>
    <visual>
      <geometry>
        <mesh filename="../meshes/Elbow.STL" scale="1 1 1"/>
      </geometry>
      <origin rpy="-1.57079632679 0 0" xyz="0 0 0"/>
      <material name="black">
        <color rgba="0.1 0.1 0.1 1"/>
      </material>
    </visual>
    <collision>
      <geometry>
        <mesh filename="../meshes/Elbow.STL" scale="1 1 1"/>
      </geometry>
      <origin rpy="-1.57079632679 0 0" xyz="0 0 0"/>
    </collision>
    <material name="black">
      <color rgba="0.1 0.1 0.1 1"/>
    </material>
  </link>
  <link name="static_elbow_M20_S20">
    <inertial>
      <origin rpy="0 0 0" xyz="-0.03148 0.00004 -0.01437"/>
      <mass value="0.06766"/>
      <inertia ixx="0.000052397" ixy="-0.0000001126" ixz="0.000015681" iyy="0.000065586" iyz="-0.000000082" izz="0.000053626"/>
    </inertial>
    <visual>
      <geometry>
        <mesh filename="../meshes/Elbow.STL" scale="1 1 1"/>
      </geometry>
      <origin rpy="-1.57079632679 0 0" xyz="0 0 0"/>
      <material name="black">
        <color rgba="0.1 0.1 0.1 1"/>
      </material>
    </visual>
    <collision>
      <geometry>
        <mesh filename="../meshes/Elbow.STL" scale="1 1 1"/>
      </geometry>
      <origin rpy="-1.57079632679 0 0" xyz="0 0 0"/>
    </collision>
    <material name="black">
      <color rgba="0.1 0.1 0.1 1"/>
    </material>
  </link>
  <link name="static_elbow_M21_S21">
    <inertial>
      <origin rpy="0 0 0" xyz="-0.03148 0.00004 -0.01437"/>
      <mass value="0.06766"/>
      <inertia ixx="0.000052397" ixy="-0.0000001126" ixz="0.000015681" iyy="0.000065586" iyz="-0.000000082" izz="0.000053626"/>
    </inertial>
    <visual>
      <geometry>
        <mesh filename="../meshes/Elbow.STL" scale="1 1 1"/>
      </geometry>
      <origin rpy="-1.57079632679 0 0" xyz="0 0 0"/>
      <material name="black">
        <color rgba="0.1 0.1 0.1 1"/>
      </material>
    </visual>
    <collision>
      <geometry>
        <mesh filename="../meshes/Elbow.STL" scale="1 1 1"/>
      </geometry>
      <origin rpy="-1.57079632679 0 0" xyz="0 0 0"/>
    </collision>
    <material name="black">
      <color rgba="0.1 0.1 0.1 1"/>
    </material>
  </link>
  <link name="static_elbow_M22_S22">
    <inertial>
      <origin rpy="0 0 0" xyz="-0.03148 0.00004 -0.01437"/>
      <mass value="0.06766"/>
      <inertia ixx="0.000052397" ixy="-0.0000001126" ixz="0.000015681" iyy="0.000065586" iyz="-0.000000082" izz="0.000053626"/>
    </inertial>
    <visual>
      <geometry>
        <mesh filename="../meshes/Elbow.STL" scale="1 1 1"/>
      </geometry>
      <origin rpy="-1.57079632679 0 0" xyz="0 0 0"/>
      <material name="black">
        <color rgba="0.1 0.1 0.1 1"/>
      </material>
    </visual>
    <collision>
      <geometry>
        <mesh filename="../meshes/Elbow.STL" scale="1 1 1"/>
      </geometry>
      <origin rpy="-1.57079632679 0 0" xyz="0 0 0"/>
    </collision>
    <material name="black">
      <color rgba="0.1 0.1 0.1 1"/>
    </material>
  </link>
  <link name="static_elbow_M23_S23">
    <inertial>
      <origin rpy="0 0 0" xyz="-0.03148 0.00004 -0.01437"/>
      <mass value="0.06766"/>
      <inertia ixx="0.000052397" ixy="-0.0000001126" ixz="0.000015681" iyy="0.000065586" iyz="-0.000000082" izz="0.000053626"/>
    </inertial>
    <visual>
      <geometry>
        <mesh filename="../meshes/Elbow.STL" scale="1 1 1"/>
      </geometry>
      <origin rpy="-1.57079632679 0 0" xyz="0 0 0"/>
      <material name="black">
        <color rgba="0.1 0.1 0.1 1"/>
      </material>
    </visual>
    <collision>
      <geometry>
        <mesh filename="../meshes/Elbow.STL" scale="1 1 1"/>
      </geometry>
      <origin rpy="-1.57079632679 0 0" xyz="0 0 0"/>
    </collision>
    <material name="black">
      <color rgba="0.1 0.1 0.1 1"/>
    </material>
  </link>
  <link name="static_elbow_M24_S24">
    <inertial>
      <origin rpy="0 0 0" xyz="-0.03148 0.00004 -0.01437"/>
      <mass value="0.06766"/>
      <inertia ixx="0.000052397" ixy="-0.0000001126" ixz="0.000015681" iyy="0.000065586" iyz="-0.000000082" izz="0.000053626"/>
    </inertial>
    <visual>
      <geometry>
        <mesh filename="../meshes/Elbow.STL" scale="1 1 1"/>
      </geometry>
      <origin rpy="-1.57079632679 0 0" xyz="0 0 0"/>
      <material name="black">
        <color rgba="0.1 0.1 0.1 1"/>
      </material>
    </visual>
    <collision>
      <geometry>
        <mesh filename="../meshes/Elbow.STL" scale="1 1 1"/>
      </geometry>
      <origin rpy="-1.57079632679 0 0" xyz="0 0 0"/>
    </collision>
    <material name="black">
      <color rgba="0.1 0.1 0.1 1"/>
    </material>
  </link>
  <link name="foot_input_M25_S25">
    <inertial>
      <origin rpy="0 0 0" xyz="-0.03918 0 0"/>
      <mass value="0.127"/>
      <inertia ixx="0.0000361" ixy="0" ixz="0" iyy="0.0000434" iyz="0" izz="0.0000434"/>
    </inertial>
    <visual>
      <geometry>
        <mesh filename="../meshes/Foot.STL" scale=" 1 1 1 "/>
      </geometry>
      <material name="black">
        <color rgba="0.1 0.1 0.1 1"/>
      </material>
    </visual>
    <collision>
      <geometry>
        <mesh filename="../meshes/Foot.STL" scale=" 1 1 1 "/>
      </geometry>
    </collision>
    <material name="black">
      <color rgba="0.1 0.1 0.1 1"/>
    </material>
  </link>
  <link name="foot_input_M26_S26">
    <inertial>
      <origin rpy="0 0 0" xyz="-0.03918 0 0"/>
      <mass value="0.127"/>
      <inertia ixx="0.0000361" ixy="0" ixz="0" iyy="0.0000434" iyz="0" izz="0.0000434"/>
    </inertial>
    <visual>
      <geometry>
        <mesh filename="../meshes/Foot.STL" scale=" 1 1 1 "/>
      </geometry>
      <material name="black">
        <color rgba="0.1 0.1 0.1 1"/>
      </material>
    </visual>
    <collision>
      <geometry>
        <mesh filename="../meshes/Foot.STL" scale=" 1 1 1 "/>
      </geometry>
    </collision>
    <material name="black">
      <color rgba="0.1 0.1 0.1 1"/>
    </material>
  </link>
  <link name="foot_input_M27_S27">
    <inertial>
      <origin rpy="0 0 0" xyz="-0.03918 0 0"/>
      <mass value="0.127"/>
      <inertia ixx="0.0000361" ixy="0" ixz="0" iyy="0.0000434" iyz="0" izz="0.0000434"/>
    </inertial>
    <visual>
      <geometry>
        <mesh filename="../meshes/Foot.STL" scale=" 1 1 1 "/>
      </geometry>
      <material name="black">
        <color rgba="0.1 0.1 0.1 1"/>
      </material>
    </visual>
    <collision>
      <geometry>
        <mesh filename="../meshes/Foot.STL" scale=" 1 1 1 "/>
      </geometry>
    </collision>
    <material name="black">
      <color rgba="0.1 0.1 0.1 1"/>
    </material>
  </link>
  <link name="foot_input_M28_S28">
    <inertial>
      <origin rpy="0 0 0" xyz="-0.03918 0 0"/>
      <mass value="0.127"/>
      <inertia ixx="0.0000361" ixy="0" ixz="0" iyy="0.0000434" iyz="0" izz="0.0000434"/>
    </inertial>
    <visual>
      <geometry>
        <mesh filename="../meshes/Foot.STL" scale=" 1 1 1 "/>
      </geometry>
      <material name="black">
        <color rgba="0.1 0.1 0.1 1"/>
      </material>
    </visual>
    <collision>
      <geometry>
        <mesh filename="../meshes/Foot.STL" scale=" 1 1 1 "/>
      </geometry>
    </collision>
    <material name="black">
      <color rgba="0.1 0.1 0.1 1"/>
    </material>
  </link>
  <link name="foot_input_M29_S29">
    <inertial>
      <origin rpy="0 0 0" xyz="-0.03918 0 0"/>
      <mass value="0.127"/>
      <inertia ixx="0.0000361" ixy="0" ixz="0" iyy="0.0000434" iyz="0" izz="0.0000434"/>
    </inertial>
    <visual>
      <geometry>
        <mesh filename="../meshes/Foot.STL" scale=" 1 1 1 "/>
      </geometry>
      <material name="black">
        <color rgba="0.1 0.1 0.1 1"/>
      </material>
    </visual>
    <collision>
      <geometry>
        <mesh filename="../meshes/Foot.STL" scale=" 1 1 1 "/>
      </geometry>
    </collision>
    <material name="black">
      <color rgba="0.1 0.1 0.1 1"/>
    </material>
  </link>
  <link name="foot_input_M30_S30">
    <inertial>
      <origin rpy="0 0 0" xyz="-0.03918 0 0"/>
      <mass value="0.127"/>
      <inertia ixx="0.0000361" ixy="0" ixz="0" iyy="0.0000434" iyz="0" izz="0.0000434"/>
    </inertial>
    <visual>
      <geometry>
        <mesh filename="../meshes/Foot.STL" scale=" 1 1 1 "/>
      </geometry>
      <material name="black">
        <color rgba="0.1 0.1 0.1 1"/>
      </material>
    </visual>
    <collision>
      <geometry>
        <mesh filename="../meshes/Foot.STL" scale=" 1 1 1 "/>
      </geometry>
    </collision>
    <material name="black">
      <color rgba="0.1 0.1 0.1 1"/>
    </material>
  </link>

  <joint name="base_link_to_body" type="fixed">
    <parent link="base_link"/>
    <child link="eigenbody_M0_S0"/>
    <origin rpy="3.142 -1.5708 0" xyz="-0.045 0 -0.063"/>
  </joint>

  <!-- Joint 1 -->
  <joint name="connection_0_attachment" type="fixed">
    <origin rpy="0 0 -1.57079632679" xyz="-0.041 0.067 -0.13"/>
    <parent link="eigenbody_M0_S0"/>
    <child link="bendy_input_M1_S1"/>
  </joint>
  <joint name="connection_6_attachment" type="fixed">
    <origin rpy="4.71238898038 0 0" xyz="-0.036 0 0"/>
    <parent link="bendy_output_M1_S1"/>
    <child link="bendy_input_M7_S7"/>
  </joint>
  <joint name="connection_12_attachment" type="fixed">
    <origin rpy="1.5707963267948966 0 0" xyz="-0.036 0 0"/>
    <parent link="bendy_output_M7_S7"/>
    <child link="static_elbow_M19_S19"/>
  </joint>
  <joint name="connection_18_attachment" type="fixed">
    <origin rpy="1.5707963267948966 0 1.5707963267948966" xyz="-0.0455 -0.0375 0"/>
    <parent link="static_elbow_M19_S19"/>
    <child link="bendy_input_M13_S13"/>
  </joint>
  <joint name="connection_25_attachment" type="fixed">
    <origin rpy="0 0 0" xyz="-0.036 0 0"/>
    <parent link="bendy_output_M13_S13"/>
    <child link="foot_input_M26_S26"/>
  </joint>

  <!-- Joint 2 -->
  <joint name="connection_1_attachment" type="fixed">
    <origin rpy="0 0 -1.57079632679" xyz="-0.041 0.067 -0.04"/>
    <parent link="eigenbody_M0_S0"/>
    <child link="bendy_input_M2_S2"/>
  </joint>
  <joint name="connection_7_attachment" type="fixed">
    <origin rpy="4.71238898038 0 0" xyz="-0.036 0 0"/>
    <parent link="bendy_output_M2_S2"/>
    <child link="bendy_input_M8_S8"/>
  </joint>
  <joint name="connection_13_attachment" type="fixed">
    <origin rpy="1.5707963267948966 0 0" xyz="-0.036 0 0"/>
    <parent link="bendy_output_M8_S8"/>
    <child link="static_elbow_M20_S20"/>
  </joint>
  <joint name="connection_19_attachment" type="fixed">
    <origin rpy="1.5707963267948966 0 1.5707963267948966" xyz="-0.0455 -0.0375 0"/>
    <parent link="static_elbow_M20_S20"/>
    <child link="bendy_input_M14_S14"/>
  </joint>
  <joint name="connection_24_attachment" type="fixed">
    <origin rpy="0 0 0" xyz="-0.036 0 0"/>
    <parent link="bendy_output_M14_S14"/>
    <child link="foot_input_M25_S25"/>
  </joint>

  <!-- Joint 3 -->
  <joint name="connection_2_attachment" type="fixed">
    <origin rpy="0 0 -1.57079632679" xyz="-0.041 0.067 0.05"/>
    <parent link="eigenbody_M0_S0"/>
    <child link="bendy_input_M3_S3"/>
  </joint>
  <joint name="connection_8_attachment" type="fixed">
    <origin rpy="4.71238898038 0 0" xyz="-0.036 0 0"/>
    <parent link="bendy_output_M3_S3"/>
    <child link="bendy_input_M9_S9"/>
  </joint>
  <joint name="connection_14_attachment" type="fixed">
    <origin rpy="1.5707963267948966 0 0" xyz="-0.036 0 0"/>
    <parent link="bendy_output_M9_S9"/>
    <child link="static_elbow_M21_S21"/>
  </joint>
  <joint name="connection_20_attachment" type="fixed">
    <origin rpy="1.5707963267948966 0 1.5707963267948966" xyz="-0.0455 -0.0375 0"/>
    <parent link="static_elbow_M21_S21"/>
    <child link="bendy_input_M15_S15"/>
  </joint>
  <joint name="connection_26_attachment" type="fixed">
    <origin rpy="0 0 0" xyz="-0.036 0 0"/>
    <parent link="bendy_output_M15_S15"/>
    <child link="foot_input_M27_S27"/>
  </joint>

  <!-- Joint 4 -->
  <joint name="connection_3_attachment" type="fixed">
    <origin rpy="0 0 1.57079632679" xyz="-0.041 -0.067 -0.13"/>
    <parent link="eigenbody_M0_S0"/>
    <child link="bendy_input_M4_S4"/>
  </joint>
  <joint name="connection_9_attachment" type="fixed">
    <origin rpy="1.57079632679 0 0" xyz="-0.036 0 0"/>
    <parent link="bendy_output_M4_S4"/>
    <child link="bendy_input_M10_S10"/>
  </joint>
  <joint name="connection_15_attachment" type="fixed">
    <origin rpy="1.5707963267948966 0 0" xyz="-0.036 0 0"/>
    <parent link="bendy_output_M10_S10"/>
    <child link="static_elbow_M22_S22"/>
  </joint>
  <joint name="connection_21_attachment" type="fixed">
    <origin rpy="1.5707963267948966 0 1.5707963267948966" xyz="-0.0455 -0.0375 0"/>
    <parent link="static_elbow_M22_S22"/>
    <child link="bendy_input_M16_S16"/>
  </joint>
  <joint name="connection_27_attachment" type="fixed">
    <origin rpy="0 0 0" xyz="-0.036 0 0"/>
    <parent link="bendy_output_M16_S16"/>
    <child link="foot_input_M28_S28"/>
  </joint>


  <!-- Joint 5 -->
  <joint name="connection_4_attachment" type="fixed">
    <origin rpy="0 0 1.57079632679" xyz="-0.041 -0.067 -0.04"/>
    <parent link="eigenbody_M0_S0"/>
    <child link="bendy_input_M5_S5"/>
  </joint>
  <joint name="connection_10_attachment" type="fixed">
    <origin rpy="1.57079632679 0 0" xyz="-0.036 0 0"/>
    <parent link="bendy_output_M5_S5"/>
    <child link="bendy_input_M11_S11"/>
  </joint>
  <joint name="connection_16_attachment" type="fixed">
    <origin rpy="1.5707963267948966 0 0" xyz="-0.036 0 0"/>
    <parent link="bendy_output_M11_S11"/>
    <child link="static_elbow_M23_S23"/>
  </joint>
  <joint name="connection_22_attachment" type="fixed">
    <origin rpy="1.5707963267948966 0 1.5707963267948966" xyz="-0.0455 -0.0375 0"/>
    <parent link="static_elbow_M23_S23"/>
    <child link="bendy_input_M17_S17"/>
  </joint>
  <joint name="connection_28_attachment" type="fixed">
    <origin rpy="0 0 0" xyz="-0.036 0 0"/>
    <parent link="bendy_output_M17_S17"/>
    <child link="foot_input_M29_S29"/>
  </joint>


  <!-- Joint 6 -->
  <joint name="connection_5_attachment" type="fixed">
    <origin rpy="0 0 1.57079632679" xyz="-0.041 -0.067 0.05"/>
    <parent link="eigenbody_M0_S0"/>
    <child link="bendy_input_M6_S6"/>
  </joint>
  <joint name="connection_11_attachment" type="fixed">
    <origin rpy="1.57079632679 0 0" xyz="-0.036 0 0"/>
    <parent link="bendy_output_M6_S6"/>
    <child link="bendy_input_M12_S12"/>
  </joint>
  <joint name="connection_17_attachment" type="fixed">
    <origin rpy="1.5707963267948966 0 0" xyz="-0.036 0 0"/>
    <parent link="bendy_output_M12_S12"/>
    <child link="static_elbow_M24_S24"/>
  </joint>
  <joint name="connection_23_attachment" type="fixed">
    <origin rpy="1.5707963267948966 0 1.5707963267948966" xyz="-0.0455 -0.0375 0"/>
    <parent link="static_elbow_M24_S24"/>
    <child link="bendy_input_M18_S18"/>
  </joint>
  <joint name="connection_29_attachment" type="fixed">
    <origin rpy="0 0 0" xyz="-0.036 0 0"/>
    <parent link="bendy_output_M18_S18"/>
    <child link="foot_input_M30_S30"/>
  </joint>
</robot>
